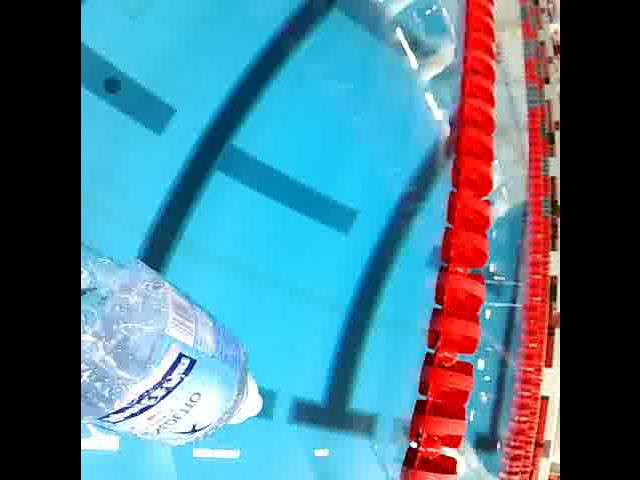Bottle: (80, 236, 269, 448)
